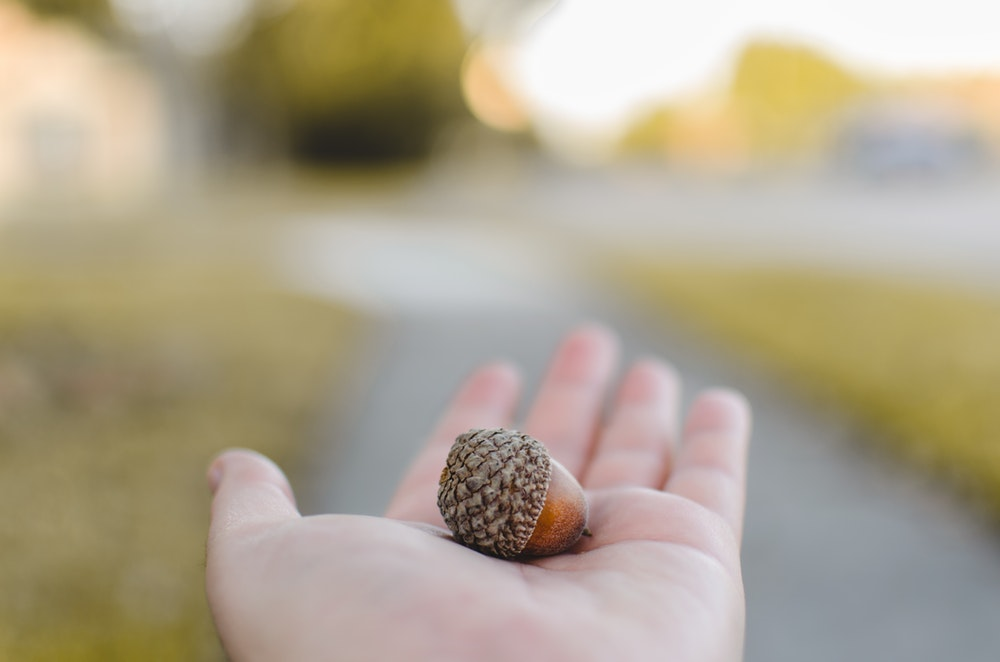palm: (334, 481, 718, 647)
